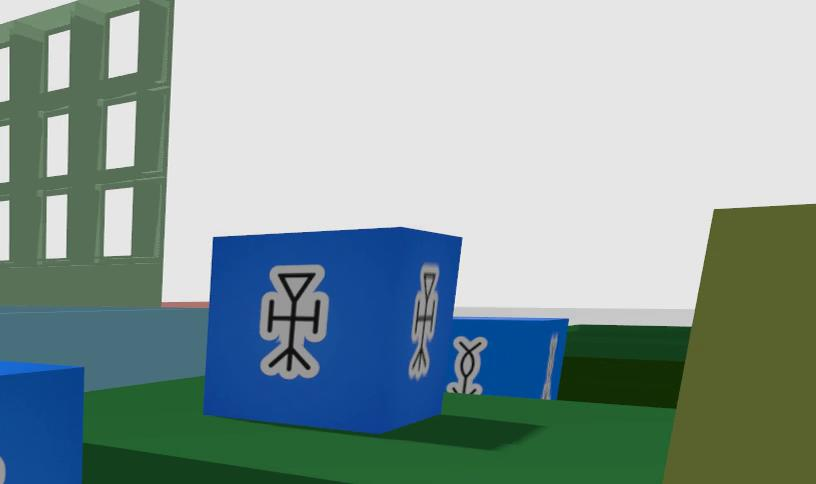KFS_REAL: (203, 227, 459, 432), (446, 315, 567, 399), (0, 362, 82, 484), (260, 266, 330, 379), (408, 263, 439, 380), (447, 337, 487, 393), (0, 461, 4, 484)
